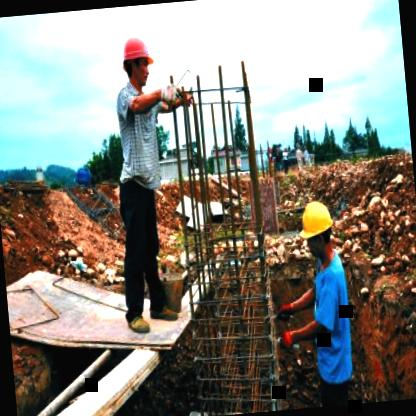helmet: (116, 28, 159, 94), (298, 196, 338, 262)
